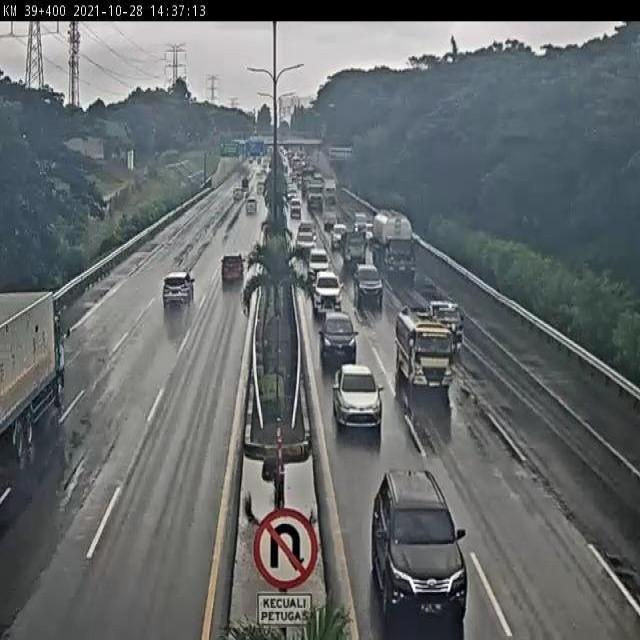big truck: (0, 291, 69, 457), (369, 208, 415, 277)
car: (370, 471, 468, 629), (332, 360, 382, 432), (318, 304, 355, 357), (432, 297, 466, 344), (351, 266, 386, 306), (161, 269, 196, 308), (311, 266, 339, 306), (221, 252, 246, 281), (306, 242, 326, 274), (294, 227, 315, 253), (330, 223, 344, 248), (245, 198, 259, 218), (289, 196, 301, 216), (231, 187, 242, 201)
small truck: (396, 308, 453, 393), (339, 228, 366, 264)
